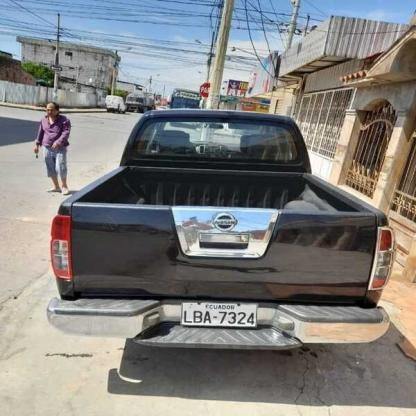Placa: (179, 295, 259, 333)
